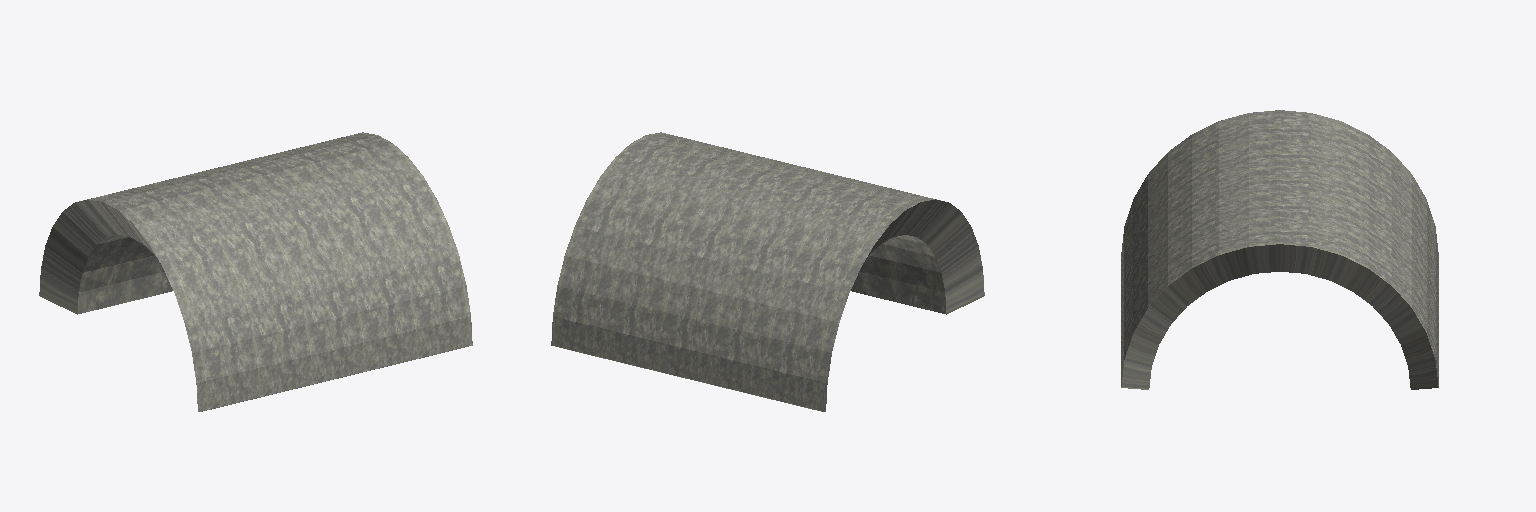
3 views of the same model, side by side, from view 1: azimuth 30°, elevation 25°; view 2: azimuth 150°, elevation 25°; view 3: azimuth 270°, elevation 25° (orthographic).
Visible parts, largest first — view 1: Cylinder; view 2: Cylinder; view 3: Cylinder.
Boxes of the visible parts, x1=… form: Cylinder: x1=39, y1=132, x2=472, y2=411; Cylinder: x1=551, y1=132, x2=984, y2=411; Cylinder: x1=1121, y1=110, x2=1438, y2=389.
Bounding box in the file's own units: 54.74 × 30.03 × 54.74.
1 materials, 1 textured.